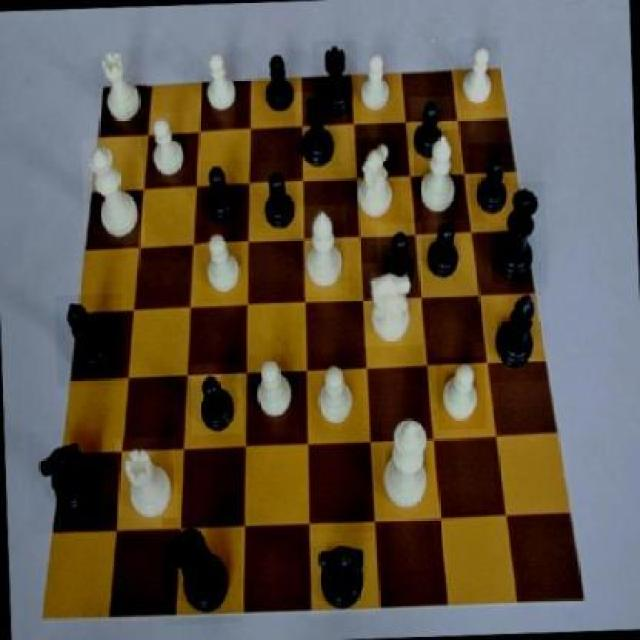bishop: (54, 294, 124, 388), (486, 283, 549, 382)
black-bishop: (161, 516, 244, 626)
black-king: (26, 429, 106, 534), (308, 531, 378, 617)
black-knight: (189, 363, 243, 435), (255, 159, 303, 236), (469, 143, 514, 222), (376, 221, 422, 294), (257, 48, 303, 120), (198, 158, 246, 226), (409, 97, 453, 166), (423, 214, 466, 283)
black-pawn: (489, 182, 548, 288)
black-queen: (296, 89, 350, 172), (312, 40, 360, 123)
black-rook: (298, 205, 348, 297), (412, 129, 462, 219)
white-bishop: (378, 408, 434, 520)
white-king: (360, 262, 422, 348), (351, 137, 401, 221)
white-knight: (309, 354, 365, 434), (198, 224, 252, 304), (248, 352, 304, 428), (143, 111, 193, 184), (436, 357, 486, 430), (456, 37, 502, 111), (354, 45, 398, 117), (199, 46, 243, 116)
white-pawn: (81, 137, 146, 246)
white-queen: (117, 437, 180, 529), (92, 48, 148, 124)
